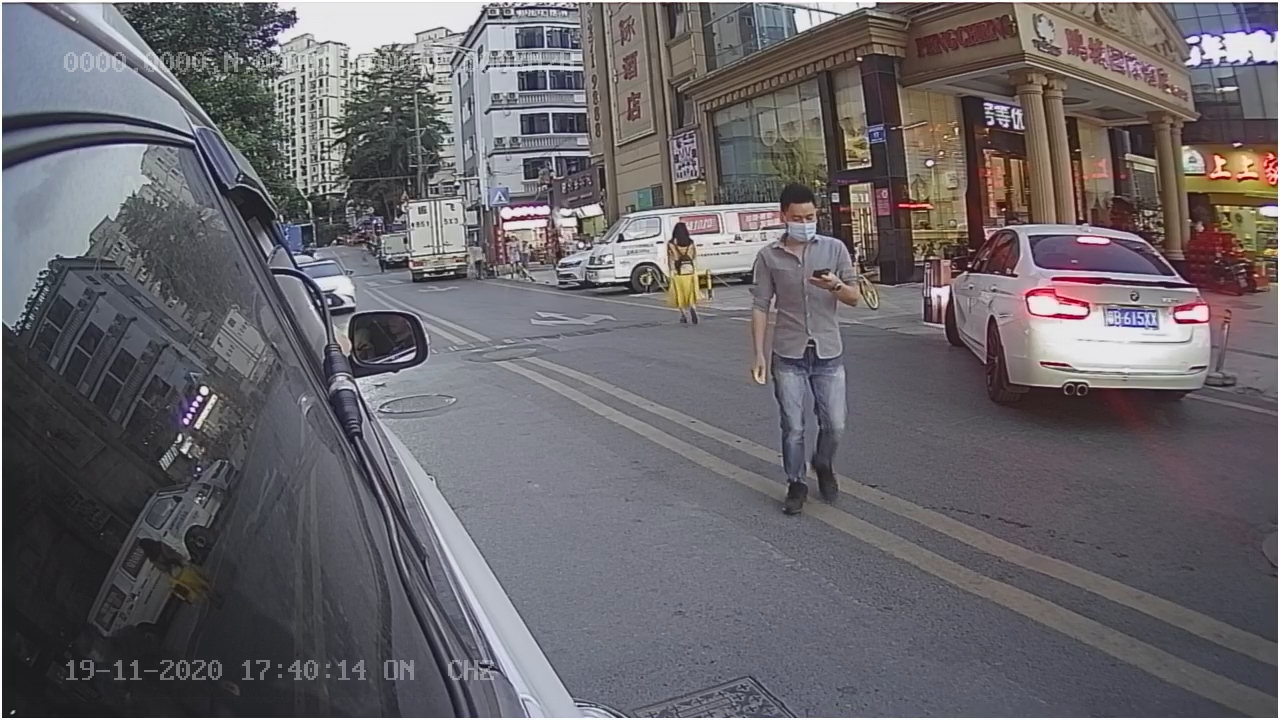person: (736, 180, 871, 521)
